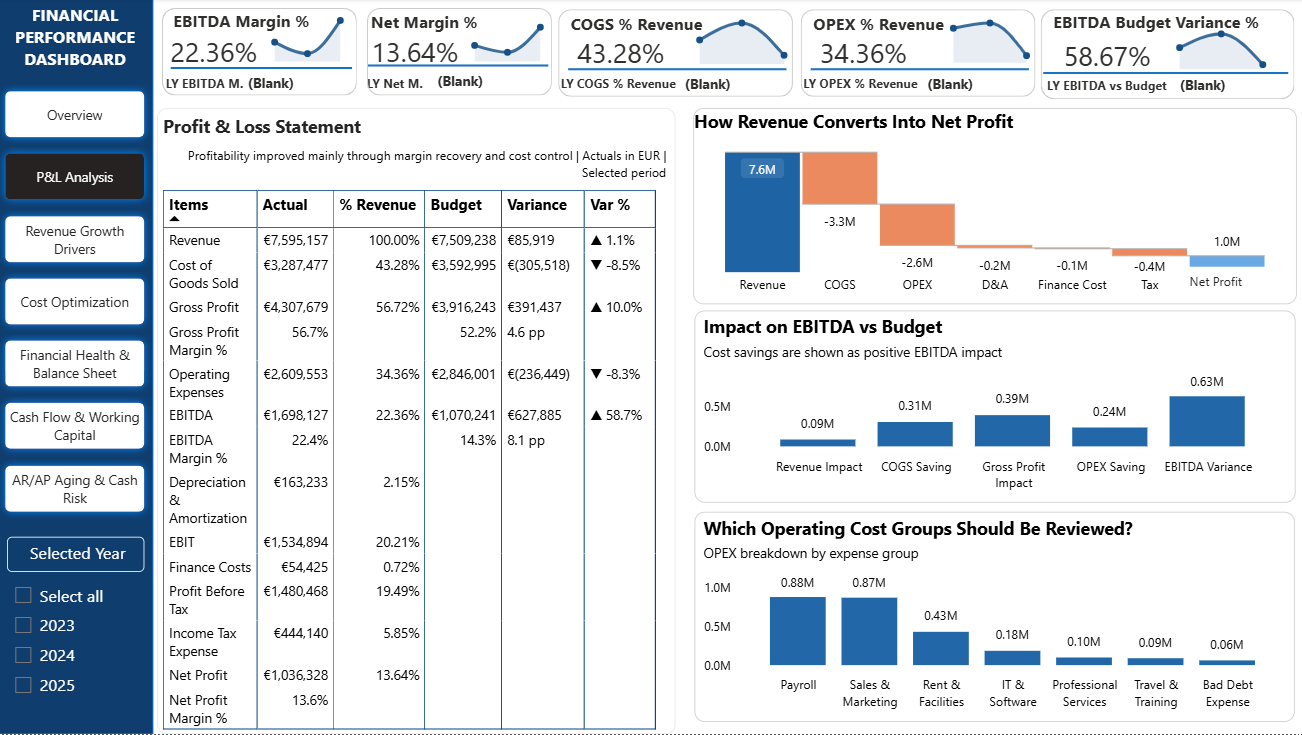

The page's visual inventory and layout, read from the dashboard file:
{"tool":"powerbi","page":{"name":"P&L Analysis","canvas":[1280,720],"ordinal":1},"visuals":[{"type":"shape","box":[0,0,152.9,720.2],"z":0,"group":"g7"},{"type":"pivotTable","title":"Profit & Loss Statement","fields":{"Rows":["Template_PL.LineItem Display"],"Values":["_Measures.PL Value Display","_Measures.% Revenue","_Measures.PL Budget Display","_Measures.PL Variance Display","_Measures.PL Variance % Display"]},"box":[156.5,107.6,507.5,612.6],"z":0},{"type":"textbox","box":[0,0,152.9,83.2],"z":1000,"group":"g7"},{"type":"group","id":"g1","title":"Group 8","box":[161.4,4.9,190.8,97.8],"z":1000},{"type":"card","fields":{"Values":["_Measures.EBITDA Margin %"]},"box":[163.1,37.9,93.9,31.1],"z":1000,"group":"g8"},{"type":"card","fields":{"Values":["_Measures.Net Profit Margin %"]},"box":[359.1,37.9,93.9,31.1],"z":1000,"group":"g9"},{"type":"card","fields":{"Values":["_Measures.COGS % Revenue"]},"box":[551.5,39.2,113,31.1],"z":1000,"group":"g10"},{"type":"card","fields":{"Values":["_Measures.OPEX % Revenue"]},"box":[788.4,39.4,113,31.1],"z":1000,"group":"g11"},{"type":"card","fields":{"Values":["_Measures.EBITDA Budget Variance %"]},"box":[1027.3,41.9,113,31.1],"z":1000,"group":"g12"},{"type":"group","id":"g2","title":"Group 8","box":[359.1,4.9,183.4,96.6],"z":2000},{"type":"textbox","box":[167.5,6.6,158.3,34],"z":2000,"group":"g8"},{"type":"textbox","box":[359.7,6.8,124.7,33],"z":2000,"group":"g9"},{"type":"textbox","box":[1027.8,7.3,222.6,36.7],"z":2000,"group":"g12"},{"type":"textbox","box":[556.8,7.9,190.5,34],"z":2000,"group":"g10"},{"type":"textbox","box":[793.7,8.1,190.5,34],"z":2000,"group":"g11"},{"type":"pageNavigator","box":[0,83.2,152.9,431.7],"z":2000,"group":"g7"},{"type":"group","id":"g3","title":"Group 8","box":[549.4,7.2,230.5,96.4],"z":3000},{"type":"textbox","box":[9.8,527,134.5,34.2],"z":3000,"group":"g7"},{"type":"lineChart","fields":{"Category":["Dim_Date.Year"],"Y":["_Measures.EBITDA Margin %"]},"box":[256.3,4.9,89.3,57.5],"z":4000,"group":"g8"},{"type":"lineChart","fields":{"Category":["Dim_Date.Year"],"Y":["_Measures.Net Profit Margin %"]},"box":[452.3,4.9,89.3,57.5],"z":4000,"group":"g9"},{"type":"lineChart","fields":{"Category":["Dim_Date.Year"],"Y":["_Measures.COGS % Revenue"]},"box":[672.3,7.2,107.6,57.5],"z":4000,"group":"g10"},{"type":"group","id":"g4","title":"Group 8","box":[786.3,7.3,231.1,96.6],"z":4000},{"type":"lineChart","fields":{"Category":["Dim_Date.Year"],"Y":["_Measures.OPEX % Revenue"]},"box":[920.5,7.3,96.6,56.3],"z":4000,"group":"g11"},{"type":"lineChart","fields":{"Category":["Dim_Date.Year"],"Y":["_Measures.EBITDA Budget Variance %"]},"box":[1141.5,11.9,106.4,57.5],"z":4000,"group":"g12"},{"type":"slicer","fields":{"Values":["Dim_Date.Year"]},"box":[9.8,569.8,134.5,150.4],"z":4000,"group":"g7"},{"type":"group","id":"g5","title":"Group 8","box":[1020.7,7.3,248.2,99.4],"z":5000},{"type":"textbox","box":[551.3,68.1,123.5,35.5],"z":6000,"group":"g10"},{"type":"textbox","box":[165.4,68.2,84.4,34.2],"z":6000,"group":"g8"},{"type":"textbox","box":[361.4,68.2,84.4,34.2],"z":6000,"group":"g9"},{"type":"textbox","box":[788.2,68.3,123.5,35.5],"z":6000,"group":"g11"},{"type":"textbox","box":[1027.2,71.2,130.8,35.5],"z":6000,"group":"g12"},{"type":"group","id":"g6","title":"Group 2","box":[681.2,108,590,191.6],"z":6000},{"type":"clusteredColumnChart","title":"Impact on EBITDA vs Budget","fields":{"Y":["_Measures.PL Budget Variance"],"Category":["PL_Variance_Lines.Line"]},"box":[682.3,305.7,588.2,188.3],"z":7000},{"type":"card","fields":{"Values":["_Measures.LY Net Profit Margin %"]},"box":[424.1,65.7,57.5,28.1],"z":8000,"group":"g9"},{"type":"card","fields":{"Values":["_Measures.LY COGS % Revenue"]},"box":[650.3,68.1,89.3,29.3],"z":8000,"group":"g10"},{"type":"card","fields":{"Values":["_Measures.LY OPEX % Revenue"]},"box":[887.2,68.3,89.3,29.3],"z":8000,"group":"g11"},{"type":"card","fields":{"Values":["_Measures.LY EBITDA Margin %"]},"box":[241.3,68.5,53.8,26.9],"z":8000,"group":"g8"},{"type":"card","fields":{"Values":["_Measures.LY EBITDA Budget Variance %"]},"box":[1143.3,70.5,72.1,26.9],"z":8000,"group":"g12"},{"type":"clusteredColumnChart","title":"Which Operating Cost Groups Should Be Reviewed?","fields":{"Y":["_Measures.Operating Expenses"],"Category":["Fact_Expense.Expense Group"]},"box":[682.3,502.6,587,205.4],"z":8000},{"type":"group","id":"g7","title":"Group 1","box":[0,0,152.9,720.2],"z":9000},{"type":"card","fields":{"Values":["_Measures.Net Profit Margin Display"]},"box":[476.7,65.7,58.7,34.2],"z":9000,"group":"g2"},{"type":"card","fields":{"Values":["_Measures.COGS % Revenue YoY Display"]},"box":[716.4,68.1,63.6,33],"z":9000,"group":"g3"},{"type":"card","fields":{"Values":["_Measures.OPEX % Revenue YoY Display"]},"box":[953.3,68.3,63.6,33],"z":9000,"group":"g4"},{"type":"card","fields":{"Values":["_Measures.EBITDA Margin CHANGE Display"]},"box":[290.2,68.5,58.7,31.8],"z":9000,"group":"g1"},{"type":"card","fields":{"Values":["_Measures.EBITDA Budget Variance % YoY Display"]},"box":[1206.6,70.5,58.7,30.6],"z":9000,"group":"g5"},{"type":"waterfallChart","title":"How Revenue Converts Into Net Profit","fields":{"Category":["Profitability_Bridge.Step"],"Y":["_Measures.Profitability Bridge Value"]},"box":[681.2,108,590.6,192],"z":9000,"group":"g6"},{"type":"shape","box":[361.8,58.6,177.3,14.7],"z":10000,"group":"g9"},{"type":"shape","box":[170,63.6,177.3,9.8],"z":10000,"group":"g8"},{"type":"shape","box":[559.7,64.9,213.3,9.8],"z":10000,"group":"g10"},{"type":"shape","box":[796.6,65.1,213.3,9.8],"z":10000,"group":"g11"},{"type":"shape","box":[1023.1,66.8,239.7,12.2],"z":10000,"group":"g12"},{"type":"textbox","box":[1161.8,263.1,102.7,34.2],"z":10002,"group":"g6"},{"type":"shape","box":[361.1,9.3,181,85.6],"z":11000,"group":"g9"},{"type":"shape","box":[161.4,9.8,190.8,85.6],"z":11000,"group":"g8"},{"type":"shape","box":[1020.7,10.6,248.2,88],"z":11000,"group":"g12"},{"type":"shape","box":[549.4,11.1,229.5,85.6],"z":11000,"group":"g10"},{"type":"shape","box":[786.3,11.3,229.5,85.6],"z":11000,"group":"g11"},{"type":"group","id":"g8","title":"Group 3","box":[161.4,4.9,190.8,97.5],"z":11004,"group":"g1"},{"type":"group","id":"g9","title":"Group 3","box":[359.1,4.9,183,97.5],"z":11004,"group":"g2"},{"type":"group","id":"g10","title":"Group 3","box":[549.4,7.2,230.5,96.4],"z":11004,"group":"g3"},{"type":"group","id":"g11","title":"Group 3","box":[786.3,7.3,230.8,96.5],"z":11004,"group":"g4"},{"type":"group","id":"g12","title":"Group 3","box":[1020.7,7.3,248.2,99.4],"z":11004,"group":"g5"}]}

Visuals, with their boxes in screenshot pixels (x1, y1, x2, y2), scaled from the page's 1280x720 canvas onto the 1302x735 screenshot:
shape: locate(0, 0, 156, 734)
"Profit & Loss Statement" pivotTable: locate(159, 110, 675, 734)
textbox: locate(0, 0, 156, 85)
"Group 8" group: locate(164, 5, 358, 105)
card - _Measures.EBITDA Margin %: locate(166, 39, 261, 70)
card - _Measures.Net Profit Margin %: locate(365, 39, 461, 70)
card - _Measures.COGS % Revenue: locate(561, 40, 676, 72)
card - _Measures.OPEX % Revenue: locate(802, 40, 917, 72)
card - _Measures.EBITDA Budget Variance %: locate(1045, 43, 1160, 75)
"Group 8" group: locate(365, 5, 552, 104)
textbox: locate(170, 7, 331, 41)
textbox: locate(366, 7, 493, 41)
textbox: locate(1045, 7, 1272, 45)
textbox: locate(566, 8, 760, 43)
textbox: locate(807, 8, 1001, 43)
pageNavigator: locate(0, 85, 156, 526)
"Group 8" group: locate(559, 7, 793, 106)
textbox: locate(10, 538, 147, 573)
lineChart - Dim_Date.Year x _Measures.EBITDA Margin %: locate(261, 5, 352, 64)
lineChart - Dim_Date.Year x _Measures.Net Profit Margin %: locate(460, 5, 551, 64)
lineChart - Dim_Date.Year x _Measures.COGS % Revenue: locate(684, 7, 793, 66)
"Group 8" group: locate(800, 7, 1035, 106)
lineChart - Dim_Date.Year x _Measures.OPEX % Revenue: locate(936, 7, 1035, 65)
lineChart - Dim_Date.Year x _Measures.EBITDA Budget Variance %: locate(1161, 12, 1269, 71)
slicer - Dim_Date.Year: locate(10, 582, 147, 734)
"Group 8" group: locate(1038, 7, 1291, 109)
textbox: locate(561, 70, 686, 106)
textbox: locate(168, 70, 254, 105)
textbox: locate(368, 70, 453, 105)
textbox: locate(802, 70, 927, 106)
textbox: locate(1045, 73, 1178, 109)
"Group 2" group: locate(693, 110, 1293, 306)
"Impact on EBITDA vs Budget" clusteredColumnChart: locate(694, 312, 1292, 504)
card - _Measures.LY Net Profit Margin %: locate(431, 67, 490, 96)
card - _Measures.LY COGS % Revenue: locate(661, 70, 752, 99)
card - _Measures.LY OPEX % Revenue: locate(902, 70, 993, 100)
card - _Measures.LY EBITDA Margin %: locate(245, 70, 300, 97)
card - _Measures.LY EBITDA Budget Variance %: locate(1163, 72, 1236, 99)
"Which Operating Cost Groups Should Be Reviewed?" clusteredColumnChart: locate(694, 513, 1291, 723)
"Group 1" group: locate(0, 0, 156, 734)
card - _Measures.Net Profit Margin Display: locate(485, 67, 545, 102)
card - _Measures.COGS % Revenue YoY Display: locate(729, 70, 793, 103)
card - _Measures.OPEX % Revenue YoY Display: locate(970, 70, 1034, 103)
card - _Measures.EBITDA Margin CHANGE Display: locate(295, 70, 355, 102)
card - _Measures.EBITDA Budget Variance % YoY Display: locate(1227, 72, 1287, 103)
"How Revenue Converts Into Net Profit" waterfallChart: locate(693, 110, 1294, 306)
shape: locate(368, 60, 548, 75)
shape: locate(173, 65, 353, 75)
shape: locate(569, 66, 786, 76)
shape: locate(810, 66, 1027, 76)
shape: locate(1041, 68, 1285, 81)
textbox: locate(1182, 269, 1286, 303)
shape: locate(367, 9, 551, 97)
shape: locate(164, 10, 358, 97)
shape: locate(1038, 11, 1291, 101)
shape: locate(559, 11, 792, 99)
shape: locate(800, 12, 1033, 99)
"Group 3" group: locate(164, 5, 358, 105)
"Group 3" group: locate(365, 5, 551, 105)
"Group 3" group: locate(559, 7, 793, 106)
"Group 3" group: locate(800, 7, 1035, 106)
"Group 3" group: locate(1038, 7, 1291, 109)
